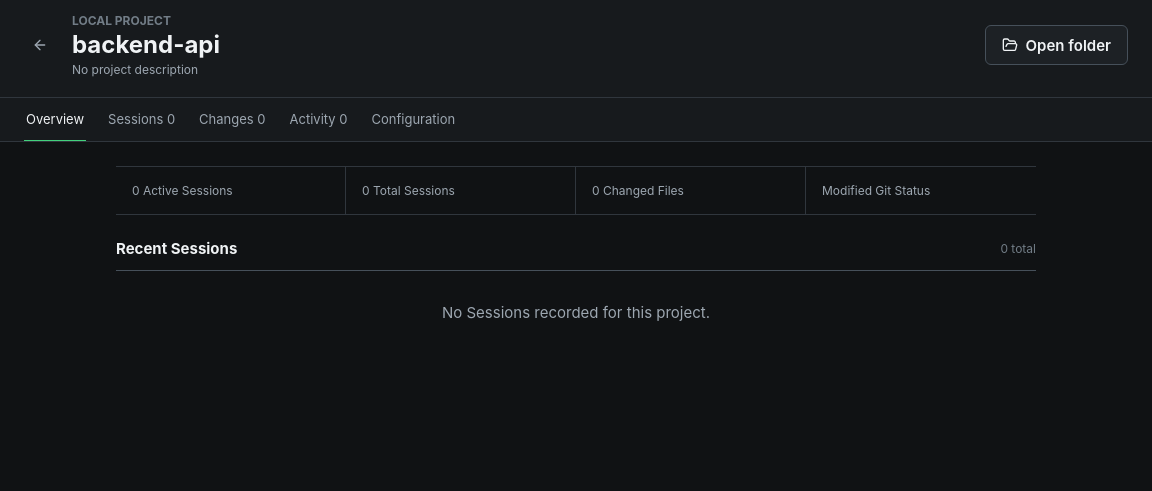
Test case: ProjectDetailPage › handles an empty local project and recoverable directory-open failure
Expected: the text "No project description" is shown, x1=72 y1=62 x2=198 y2=77
Expected: the text "No Sessions recorded for this project." is shown, x1=442 y1=303 x2=710 y2=322
What coordinates should you click on to do the following:
click the button with aria-label "Open project directory"
I would click on:
 (1056, 45)
Its box is x1=985 y1=25 x2=1128 y2=65.
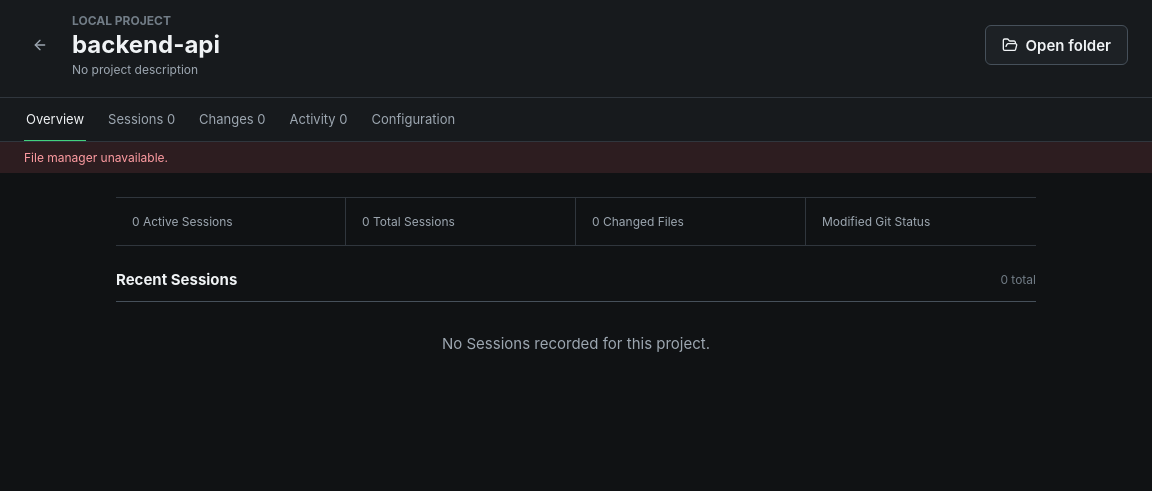
Expected: the message reads "File manager unavailable.", x1=24 y1=150 x2=168 y2=165
What coordinates should you click on to do the following:
click the tab "Changes 0"
I would click on:
 (232, 120)
Its box is x1=197 y1=98 x2=268 y2=142.
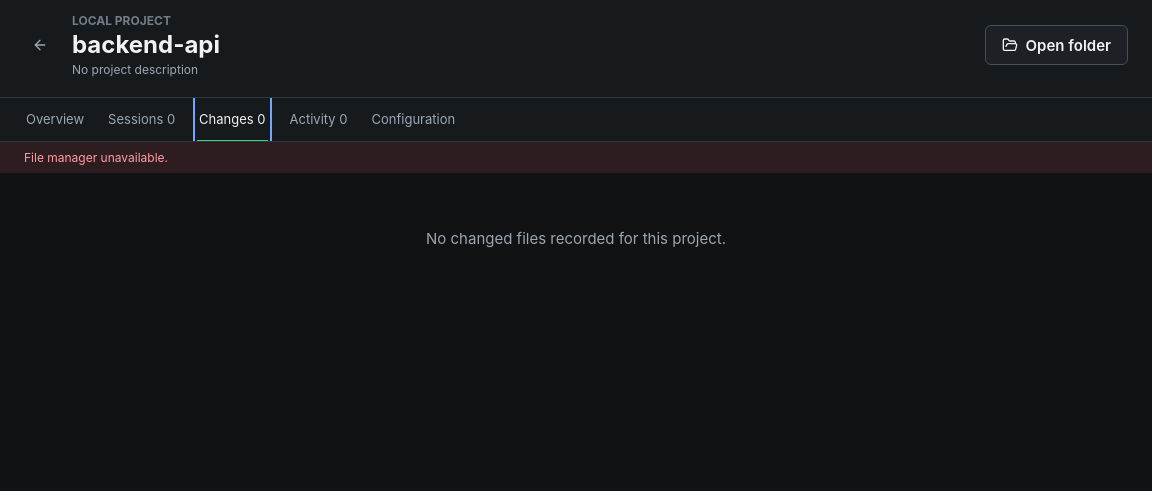
Expected: the text "No changed files recorded for this project." is shown, x1=426 y1=229 x2=726 y2=248
What coordinates should you click on to do the following:
click the tab "Activity 0"
I would click on:
 (318, 120)
Its box is x1=288 y1=98 x2=349 y2=142.
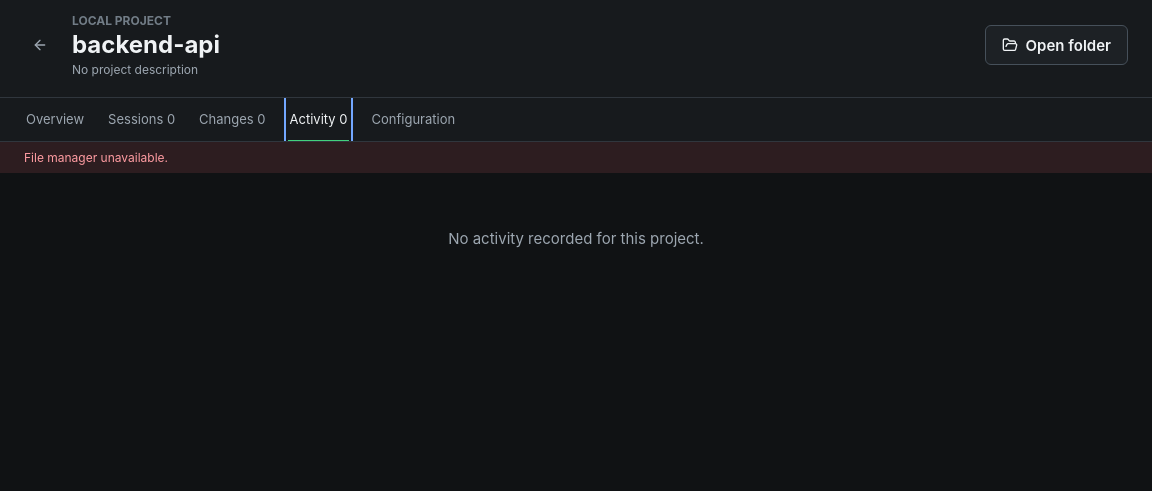
Expected: the text "No activity recorded for this project." is shown, x1=448 y1=229 x2=704 y2=248
What coordinates should you click on to do the following:
click the tab "Configuration"
I would click on:
 (413, 120)
Its box is x1=370 y1=98 x2=457 y2=142.
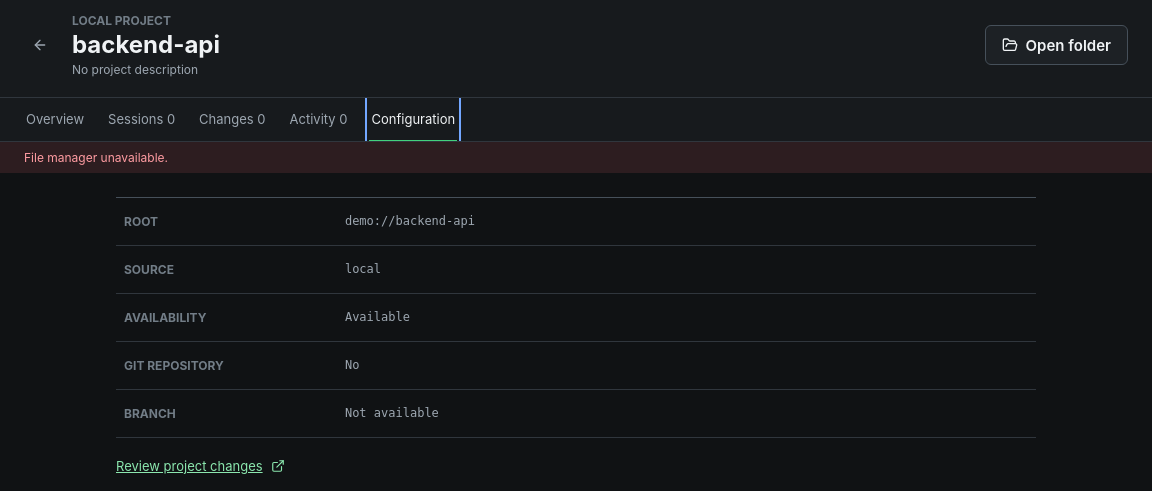
Expected: the text "Not available" is shown, x1=345 y1=406 x2=439 y2=420
